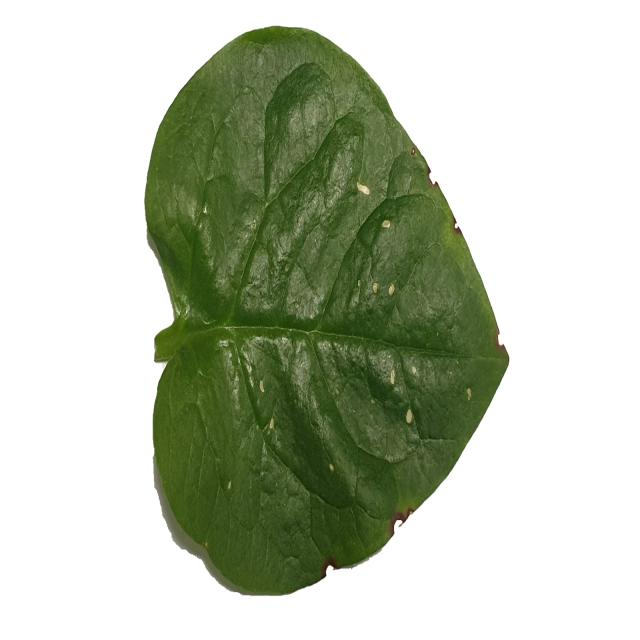Medicinal-Basale: (140, 21, 508, 596)
